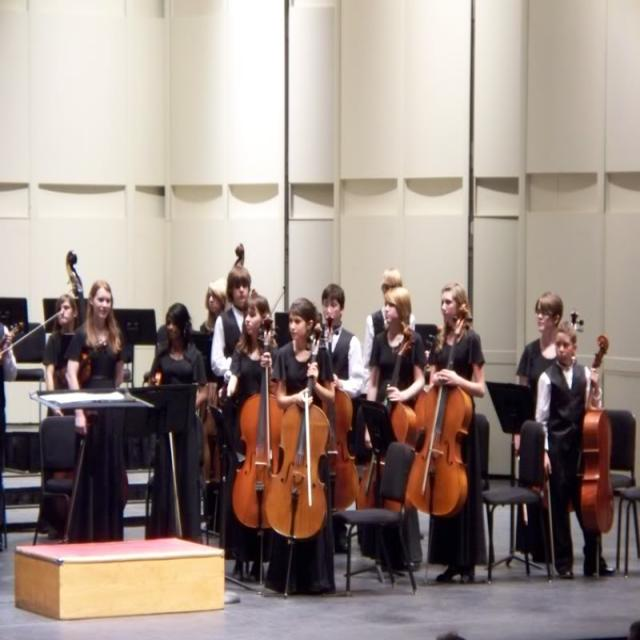cello: (408, 303, 480, 518), (265, 322, 332, 542), (233, 316, 285, 537), (355, 326, 411, 527), (575, 333, 622, 536), (315, 320, 359, 509)
violin: (57, 336, 110, 392)
